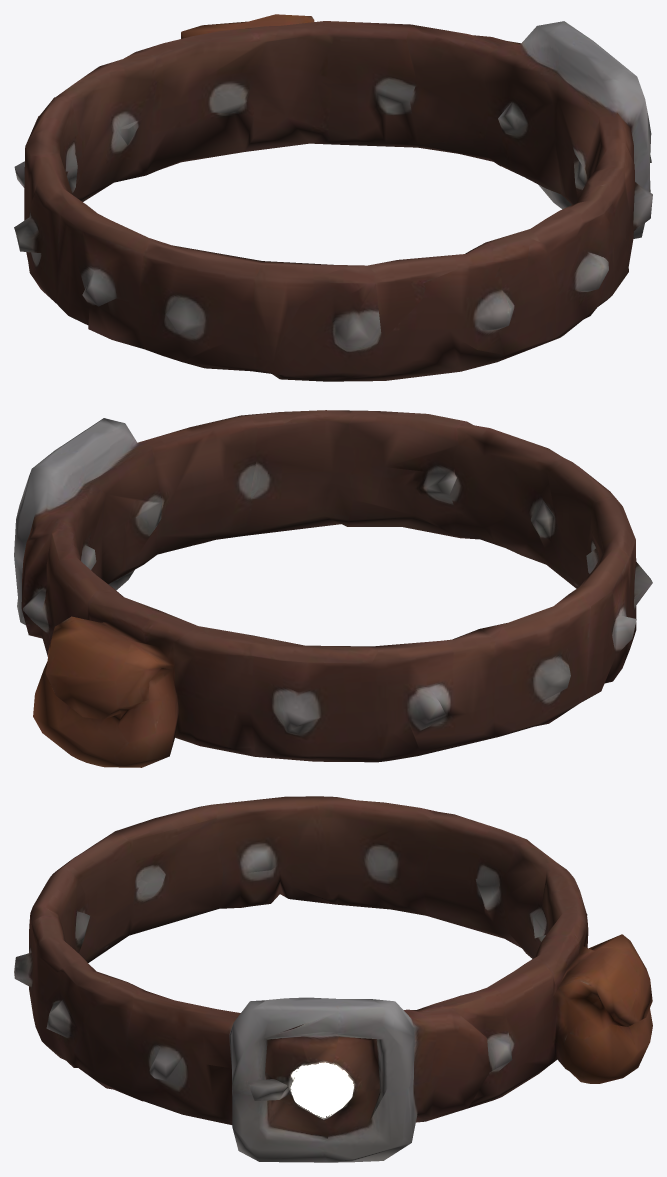
The model's file is loot_belt_heavy-D41_l5LQ.glb.
3 views of the same model, one above another, from view 1: azimuth 30°, elevation 25°; view 2: azimuth 150°, elevation 25°; view 3: azimuth 270°, elevation 25° (orthographic). The views are drawn at different scales.
Parts seen in each view (by area): view 1: tripo_node_2cc67ad0-462f-4255-bba1-5dab5423bc1b; view 2: tripo_node_2cc67ad0-462f-4255-bba1-5dab5423bc1b; view 3: tripo_node_2cc67ad0-462f-4255-bba1-5dab5423bc1b.
Part boxes in pixels (x1=…): tripo_node_2cc67ad0-462f-4255-bba1-5dab5423bc1b: x1=14, y1=14, x2=652, y2=381; tripo_node_2cc67ad0-462f-4255-bba1-5dab5423bc1b: x1=14, y1=410, x2=652, y2=767; tripo_node_2cc67ad0-462f-4255-bba1-5dab5423bc1b: x1=14, y1=796, x2=652, y2=1162.
Bounding box in the file's own units: 0.962 × 0.2701 × 1.
Materials: 1 (1 with a texture image).
